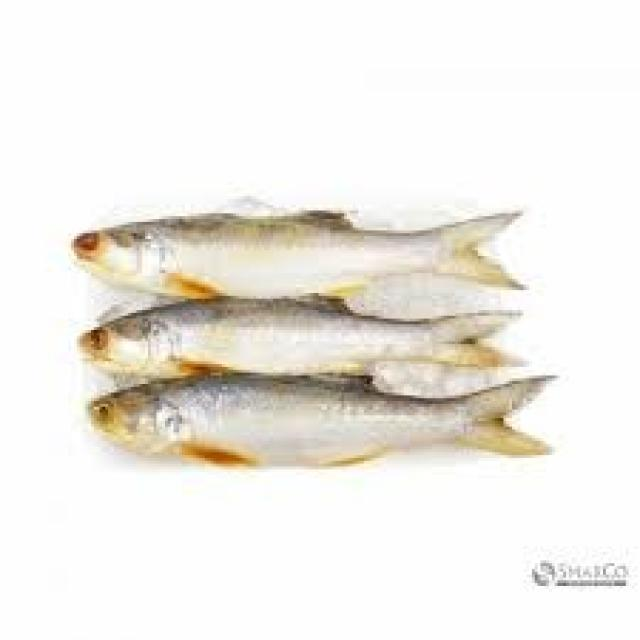Fourfinger-Threadfin: (52, 198, 540, 312), (58, 289, 564, 380), (63, 380, 564, 465)
